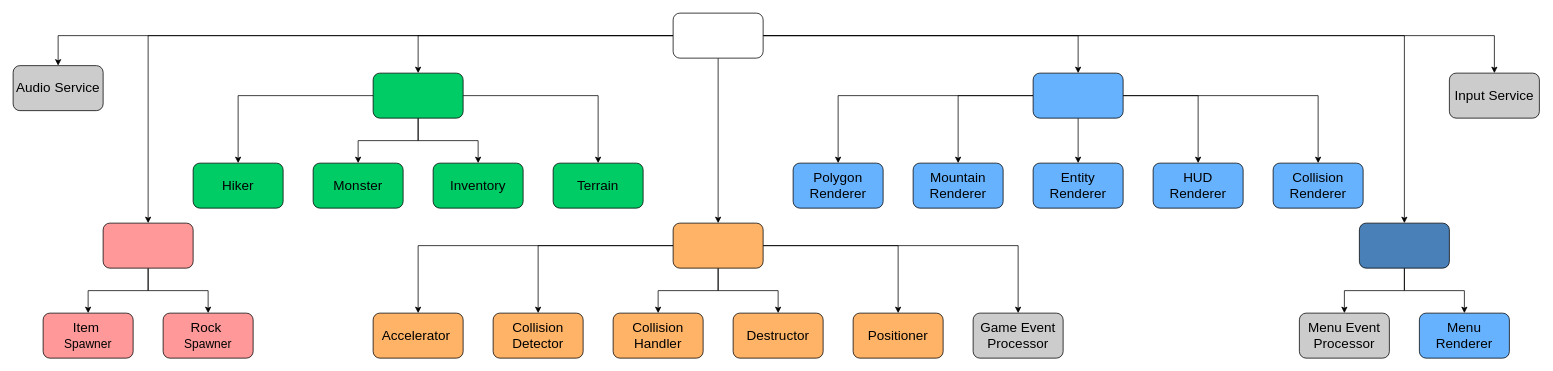
Some shapes in this 1553 by 371 pixel diagram are drawn without their labels. Here are the shapes that lost their labels. From the top down, the box of each, then its label:
(672, 12, 763, 58): Game
(372, 72, 463, 118): World
(1032, 72, 1123, 118): Renderer
(102, 222, 193, 268): Spawner
(672, 222, 763, 268): Physics Engine
(1359, 222, 1449, 268): Menu Engine
